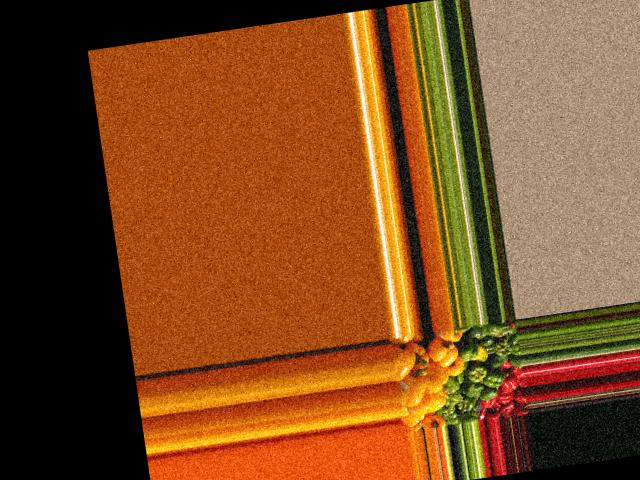bell_pepper: (492, 318, 517, 338)
